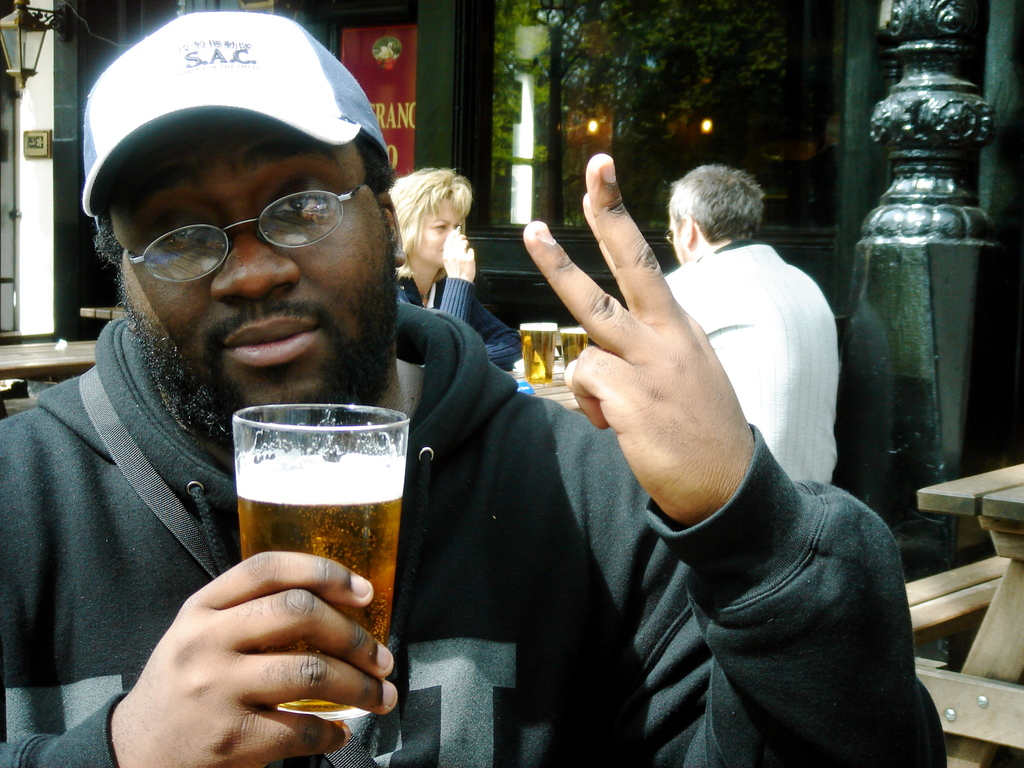Beer: (237, 458, 407, 705)
